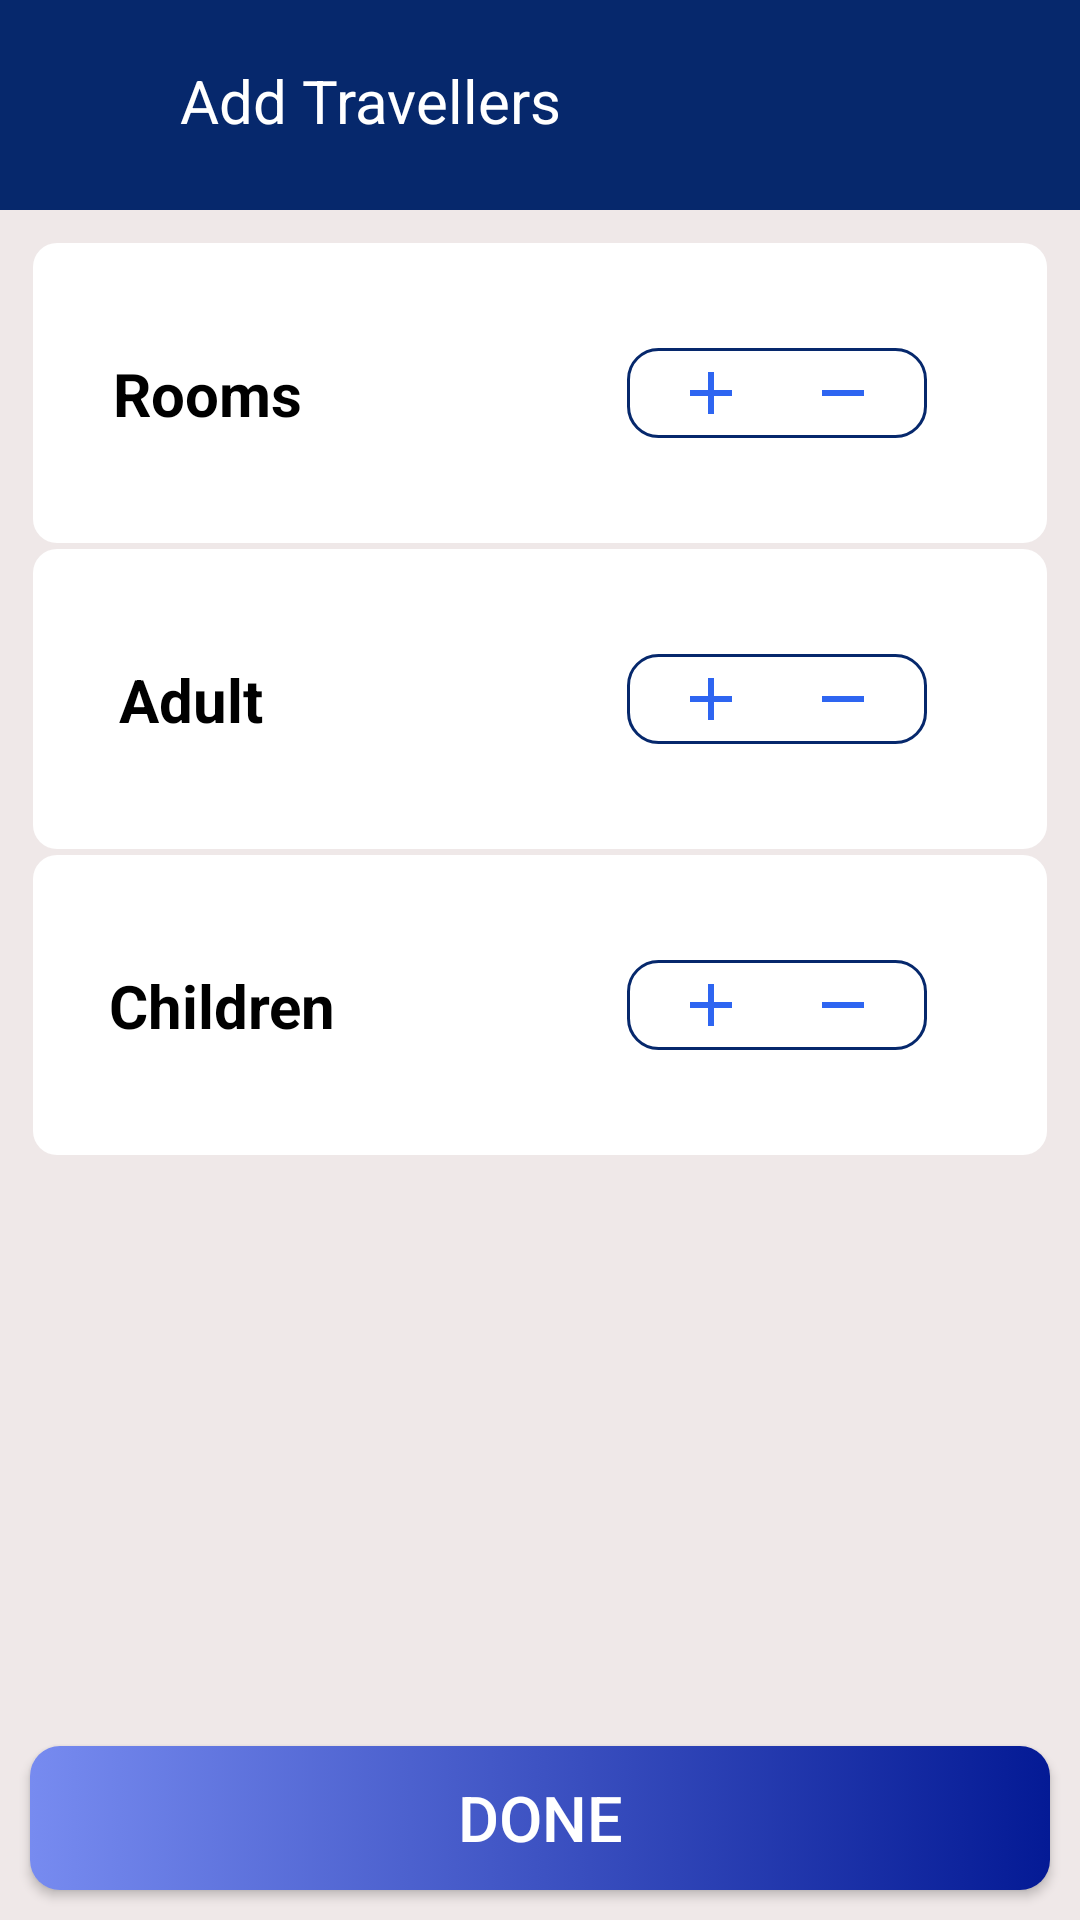

Point at icon controls on the screen. Image size 1080*1920, points as [x,y].
add: [711,393], [711,699], [711,1005]
